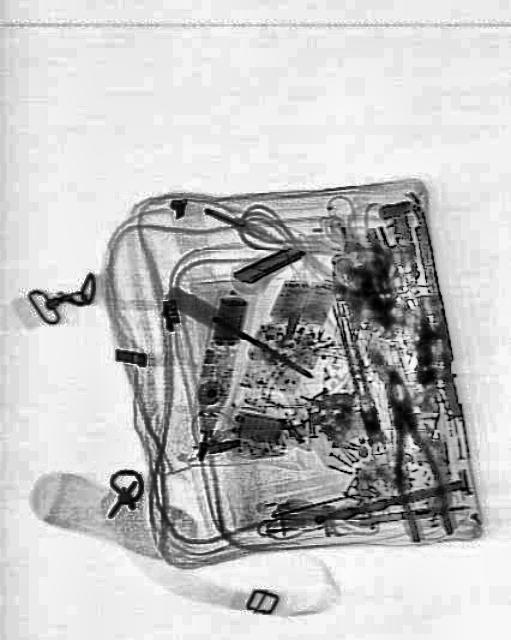Pliers: (370, 362, 454, 546)
